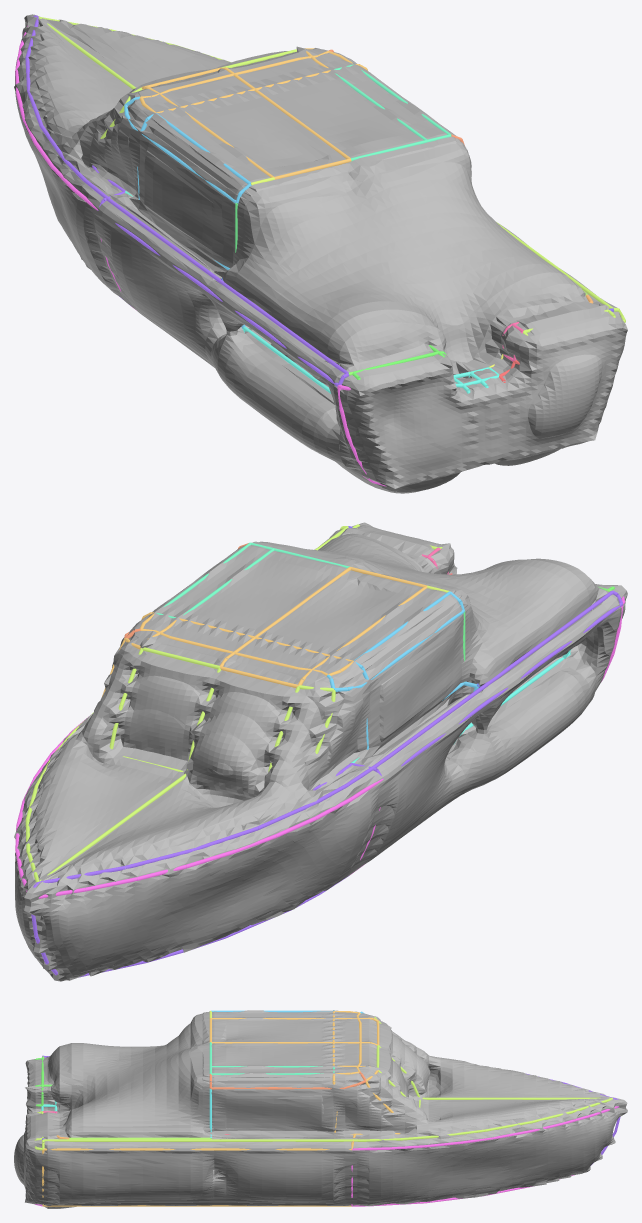
Rendered from flowrep_boat.gltf.
3 views of the same model, one above another, from view 1: azimuth 30°, elevation 25°; view 2: azimuth 150°, elevation 25°; view 3: azimuth 270°, elevation 25° (orthographic). The views are drawn at different scales.
Bounding box in the file's own units: 0.3368 × 0.2693 × 0.9568.
